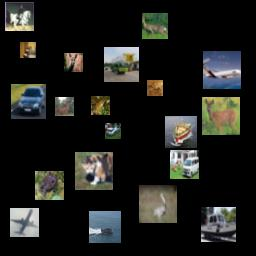airplane: (203, 51, 241, 89), (10, 208, 39, 237)
automobile: (11, 84, 46, 119), (170, 150, 199, 179), (105, 123, 121, 139)
bird: (139, 185, 177, 223)
cat: (75, 152, 113, 190), (20, 42, 36, 58)
deer: (202, 97, 240, 135), (142, 13, 168, 39), (55, 97, 74, 116), (64, 53, 83, 72)
frog: (35, 171, 64, 200), (91, 96, 110, 115), (147, 80, 163, 96)
ship: (201, 207, 236, 242), (89, 211, 121, 243), (165, 116, 197, 148)
truck: (104, 47, 139, 82)
